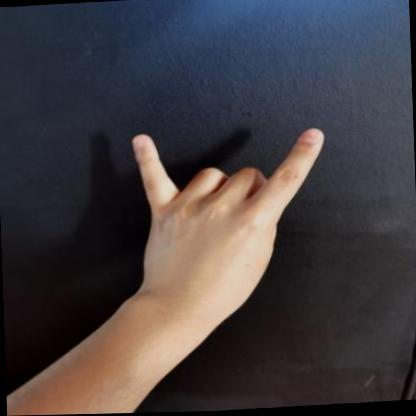U: (130, 123, 328, 300)
